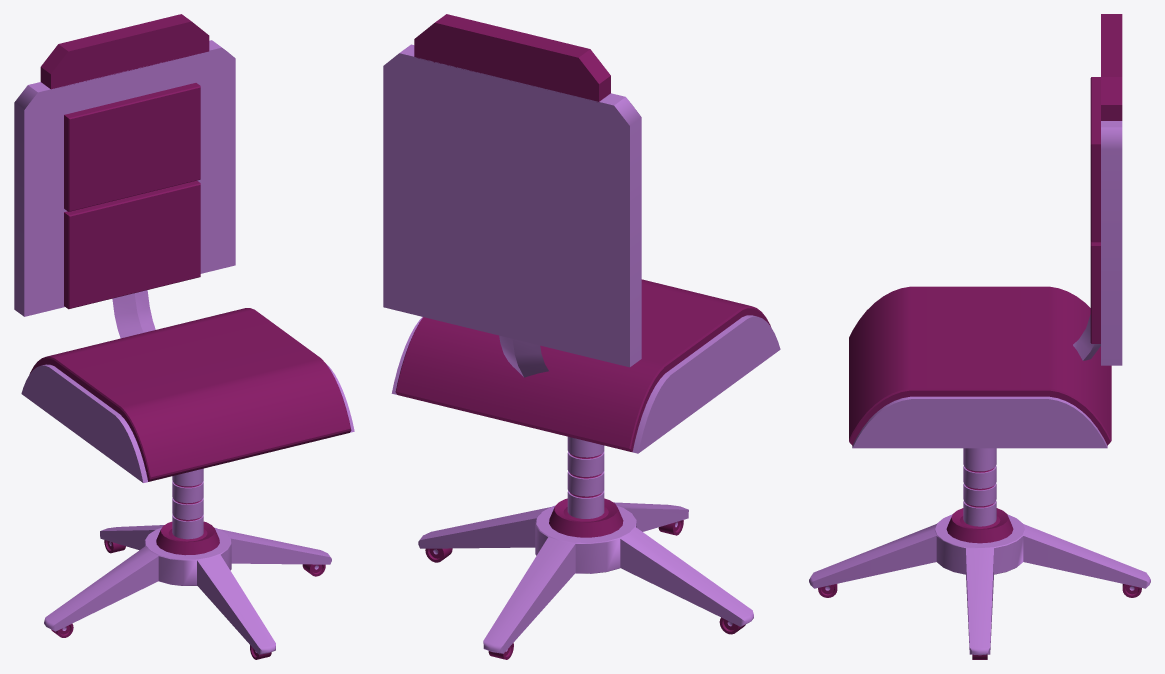
File: chairRounded.glb
3 views of the same model, side by side, from view 1: azimuth 30°, elevation 25°; view 2: azimuth 150°, elevation 25°; view 3: azimuth 270°, elevation 25° (orthographic). The views are drawn at different scales.
Parts seen in each view (by area): view 1: chairRounded; view 2: chairRounded; view 3: chairRounded.
Part boxes in pixels (x1=…): chairRounded: x1=14, y1=14, x2=354, y2=659; chairRounded: x1=383, y1=14, x2=780, y2=659; chairRounded: x1=809, y1=14, x2=1150, y2=659.
Bounding box in the file's own units: 0.5944 × 1.05 × 0.5944.
